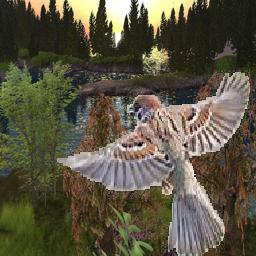Sparrow: (58, 70, 251, 256)
